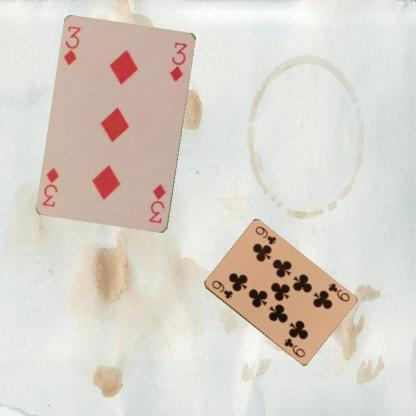3d: (61, 24, 83, 67), (146, 182, 167, 225)
9c: (325, 280, 351, 303), (209, 277, 234, 300)
